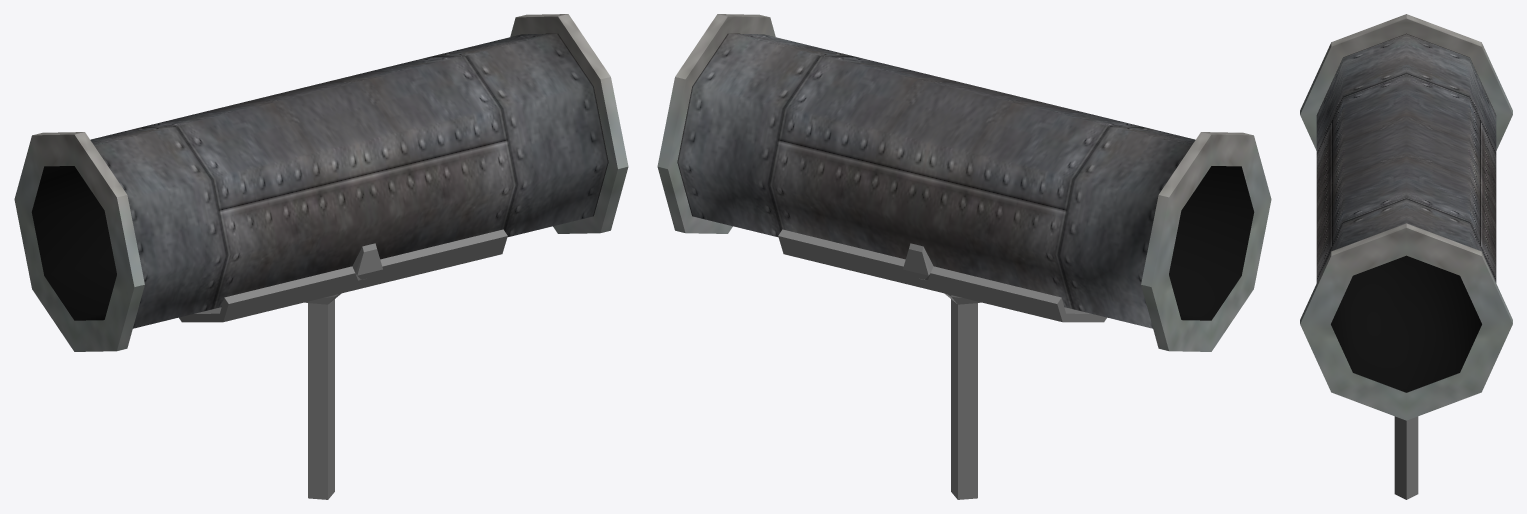
The model's file is pipe_I.glb.
The picture shows the model from 3 angles, left to right: view 1: azimuth 30°, elevation 25°; view 2: azimuth 150°, elevation 25°; view 3: azimuth 270°, elevation 25°; orthographic projection. The views are drawn at different scales.
Visible parts, largest first — view 1: zhuti.II; view 2: zhuti.II; view 3: zhuti.II.
Boxes of the visible parts, <box> form: zhuti.II: <box>14,14,628,499</box>; zhuti.II: <box>657,14,1271,499</box>; zhuti.II: <box>1300,14,1512,499</box>.
Bounding box in the file's own units: 10 × 8.14 × 4.21.
1 material, 1 textured.
